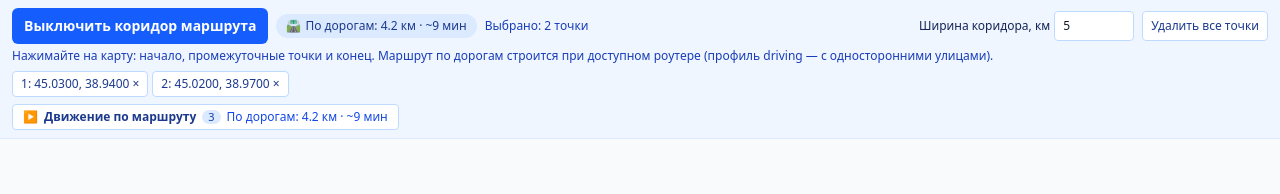
RouteModePanel (R22) › показывает дорожный маршрут, км/мин роутера и маневры
Check: the element with test id "route-road-note" shows "4.2 км", box top-left (305, 17), bottom-right (467, 34)
Check: the element with test id "route-road-note" shows "9 мин", box top-left (305, 17), bottom-right (467, 34)
// Маневры — за переключателем-вкладкой (не занимают место, пока не открыты).
What coordinates should you click on to do the following:
click the button with test id "route-steps-toggle"
I would click on:
 (205, 117)
Its box is top-left (12, 104), bottom-right (399, 130).
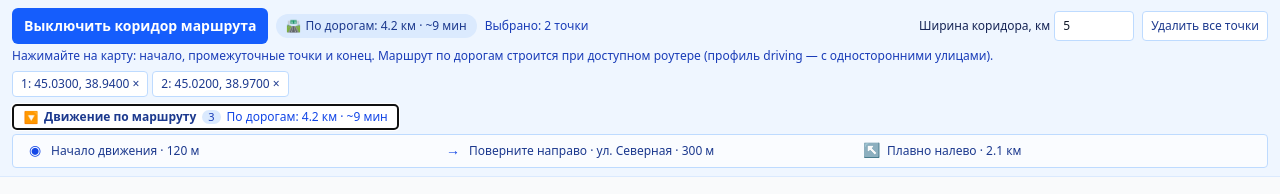
Check: the list with test id "route-steps" shows "Поверните направо", box top-left (469, 142), bottom-right (587, 159)
Check: the list with test id "route-steps" shows "ул. Северная", box top-left (587, 142), bottom-right (672, 159)
Check: the list with test id "route-steps" shows "Плавно налево", box top-left (887, 142), bottom-right (977, 159)
